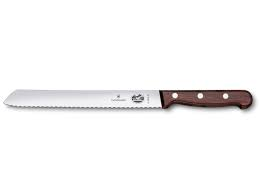knife: (2, 87, 253, 110)
